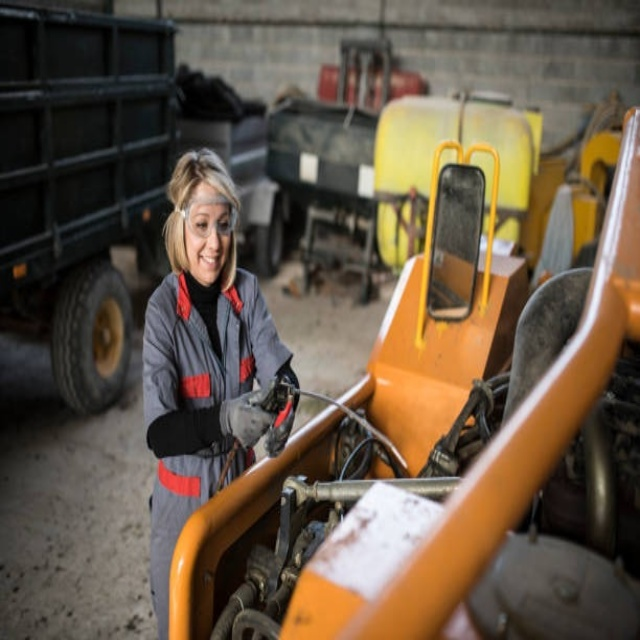Gafas: (183, 208, 237, 240)
Guantes: (220, 391, 272, 451)
Sin_mascara: (196, 248, 225, 281)
